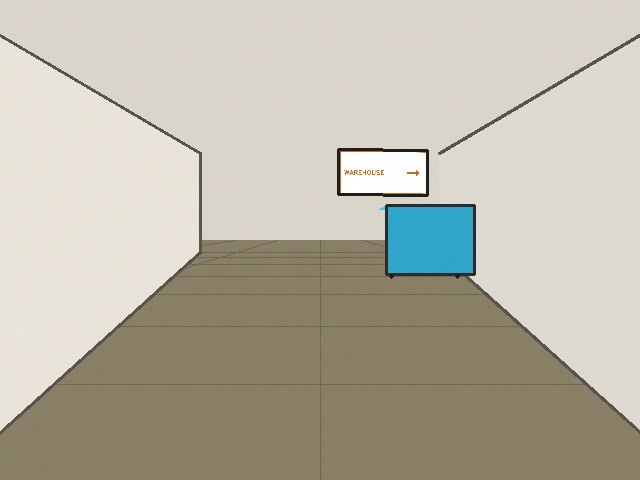cart: (379, 205, 474, 274)
directional_sign: (338, 149, 427, 195)
